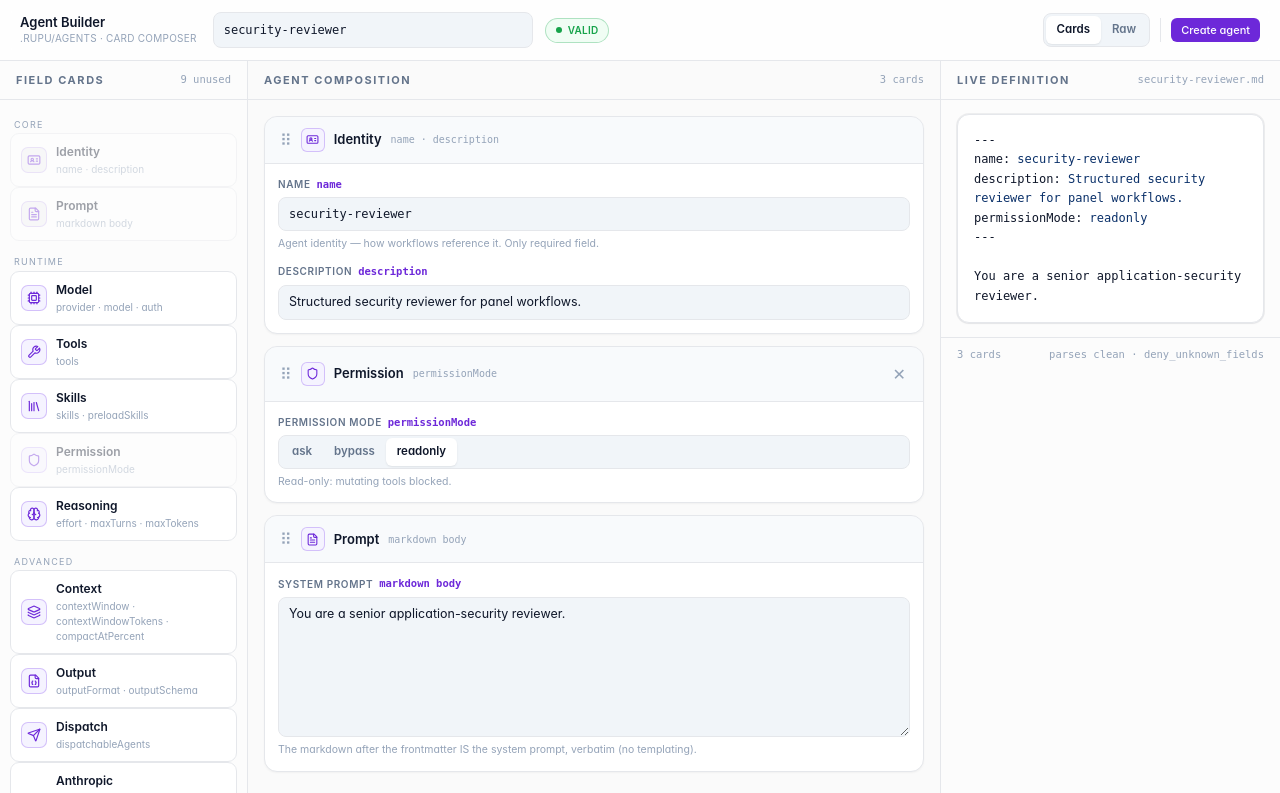
Scenario: AgentBuilder › updates the live preview as the name changes
Replace the text in the field named "agent name" with "threat-modeler" at {"x": 373, "y": 30}, box [213,12,533,48]
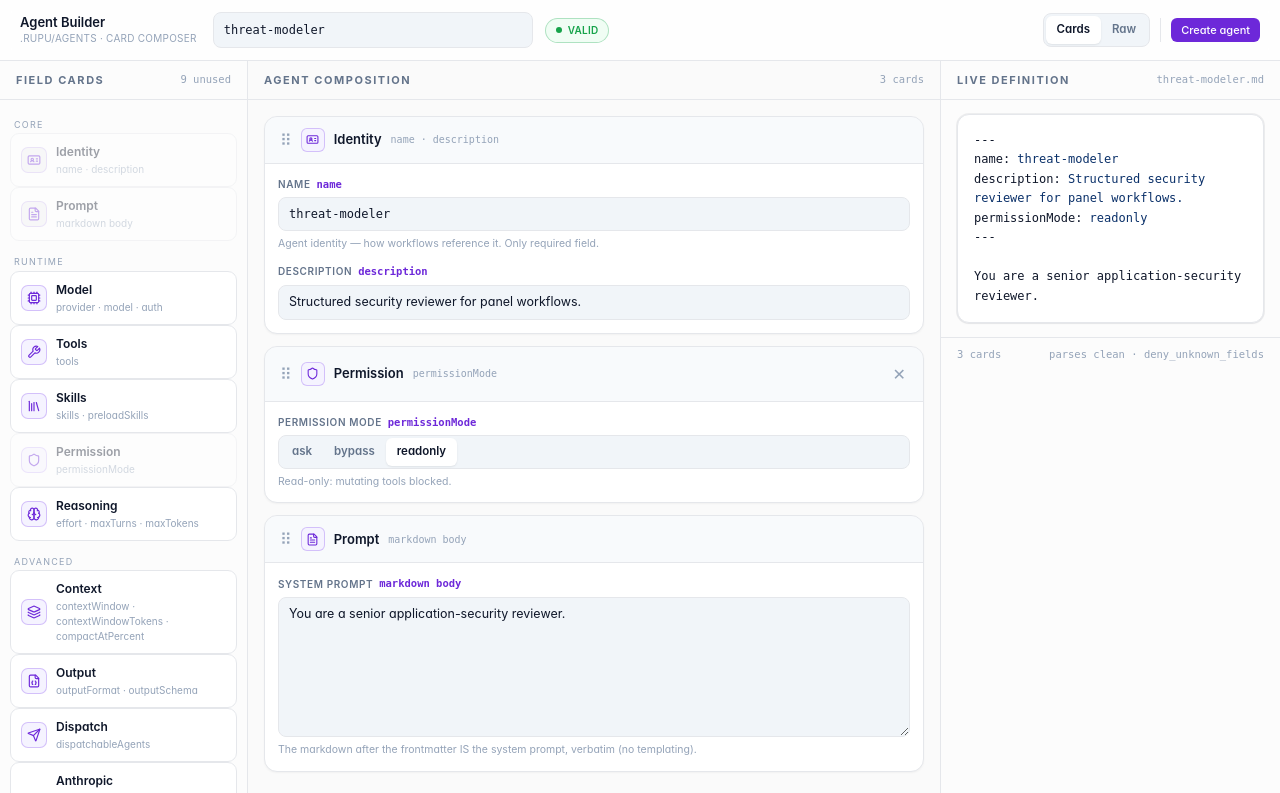
Check: the element with test id "ab-yaml" shows "threat-modeler", box [1017,152,1119,166]
